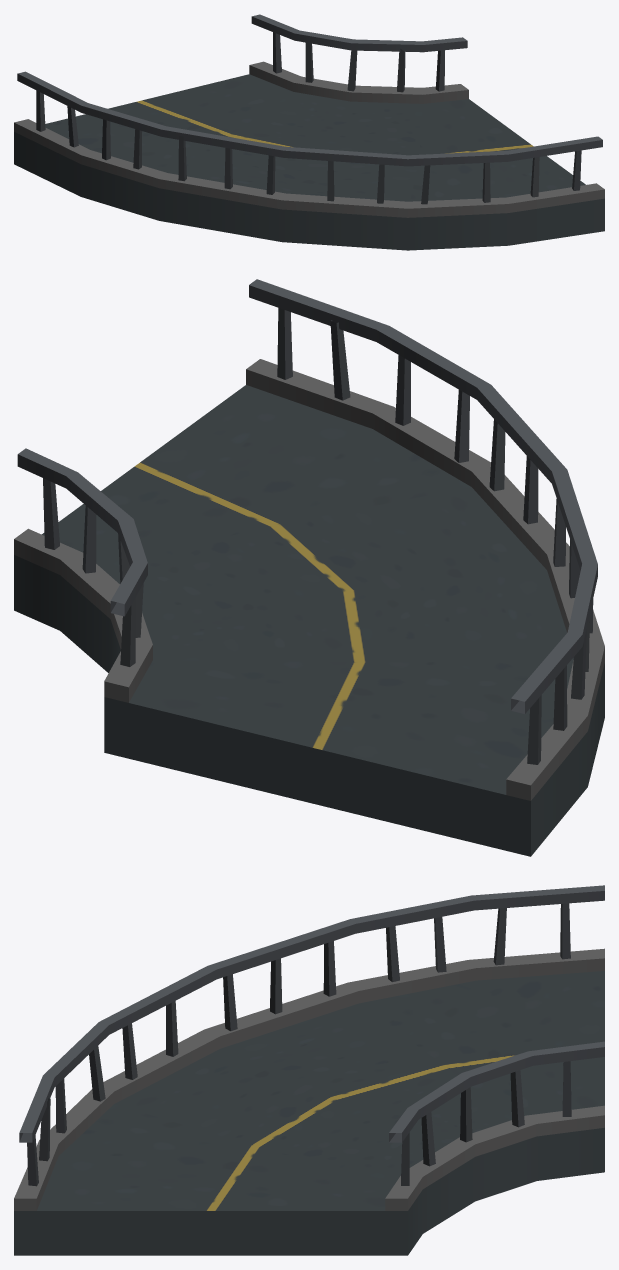
File: Asphalt_E3.fbx
3 views of the same model, one above another, from view 1: azimuth 30°, elevation 25°; view 2: azimuth 150°, elevation 25°; view 3: azimuth 270°, elevation 25° (orthographic). The views are drawn at different scales.
Parts seen in each view (by area): view 1: Asphalt_E3; view 2: Asphalt_E3; view 3: Asphalt_E3.
Boxes of the visible parts, bbox=[...] form: Asphalt_E3: bbox=[14, 14, 604, 250]; Asphalt_E3: bbox=[14, 279, 604, 856]; Asphalt_E3: bbox=[14, 885, 604, 1255].
Bounding box in the file's own units: 1200 × 275 × 1200.
Materials: 1 (1 with a texture image).
